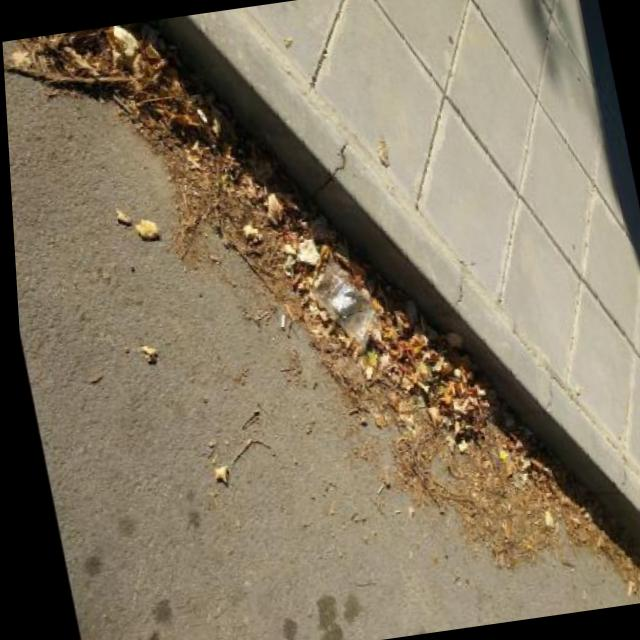plastic: (306, 256, 384, 353)
